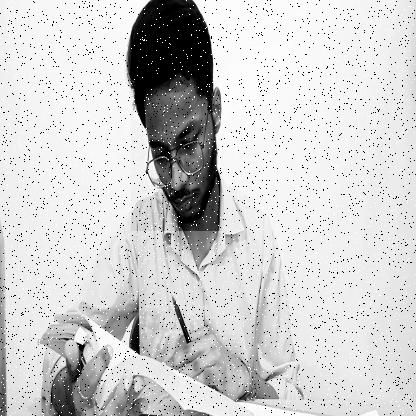Distracted: (131, 0, 224, 231)
